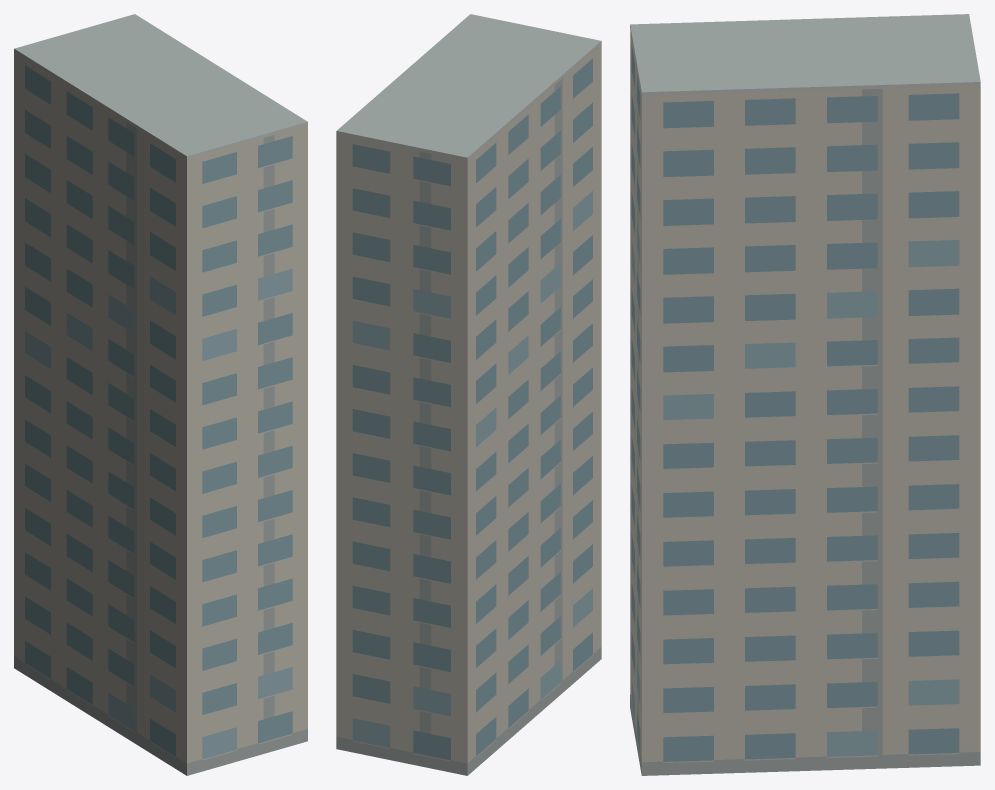
Rendered from residential-0db97b22-17a8-438a-9e75-63ef193d8e93.glb.
3 renders of one model, left to right at view 1: azimuth 30°, elevation 25°; view 2: azimuth 150°, elevation 25°; view 3: azimuth 270°, elevation 25°, orthographic. The views are drawn at different scales.
Visible parts, largest first — view 1: residential-0db97b22-17a8-438a-9e75-63ef193d8e93.tmp; view 2: residential-0db97b22-17a8-438a-9e75-63ef193d8e93.tmp; view 3: residential-0db97b22-17a8-438a-9e75-63ef193d8e93.tmp.
Part boxes in pixels (x1=…): residential-0db97b22-17a8-438a-9e75-63ef193d8e93.tmp: x1=14, y1=14, x2=307, y2=775; residential-0db97b22-17a8-438a-9e75-63ef193d8e93.tmp: x1=336, y1=14, x2=601, y2=775; residential-0db97b22-17a8-438a-9e75-63ef193d8e93.tmp: x1=630, y1=14, x2=980, y2=775.
Size of the model in its own units: 10.81 by 44 by 20.46.
